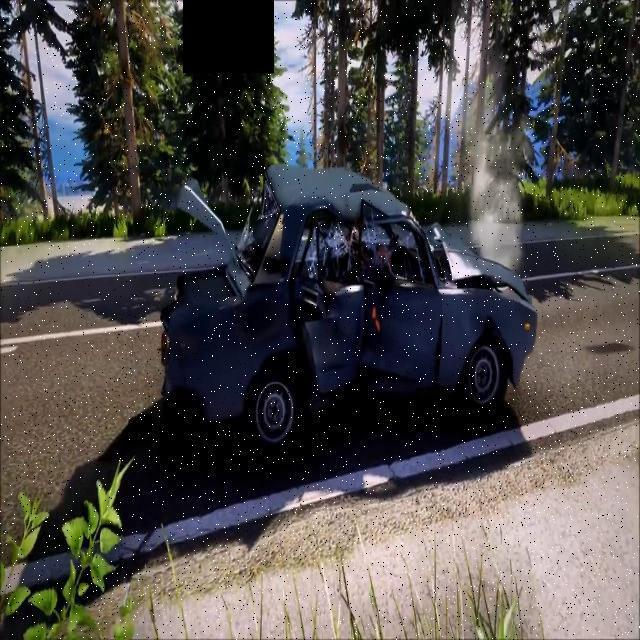single accident: (92, 98, 577, 460)
